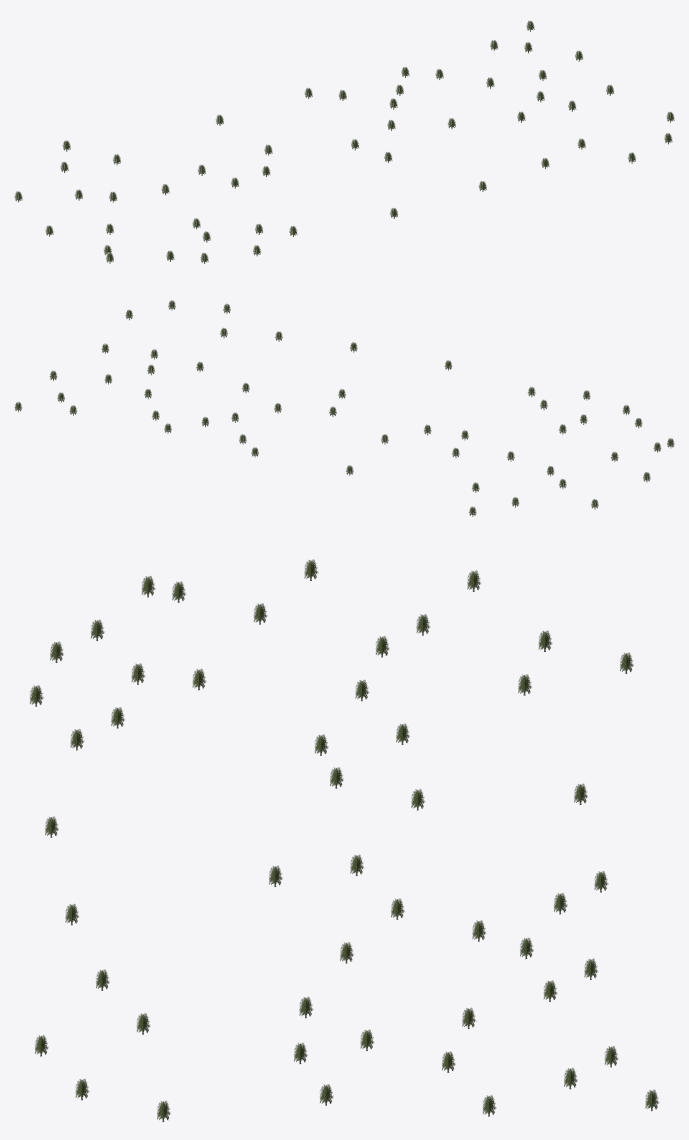
The model's file is trees.glb.
3 views of the same model, one above another, from view 1: azimuth 30°, elevation 25°; view 2: azimuth 150°, elevation 25°; view 3: azimuth 270°, elevation 25° (orthographic). The views are drawn at different scales.
Parts seen in each view (by area): view 1: BigTreeBillboard.001_BigTreeBillboard_0.001; view 2: BigTreeBillboard.001_BigTreeBillboard_0.001; view 3: BigTreeBillboard.001_BigTreeBillboard_0.001.
Part boxes in pixels (box(x1,y1,x2,y2)): BigTreeBillboard.001_BigTreeBillboard_0.001: box(14, 21, 674, 263); BigTreeBillboard.001_BigTreeBillboard_0.001: box(14, 300, 674, 516); BigTreeBillboard.001_BigTreeBillboard_0.001: box(30, 559, 658, 1121).
Size of the model in its own units: 1589 by 39.55 by 772.
1 material, 1 textured.
